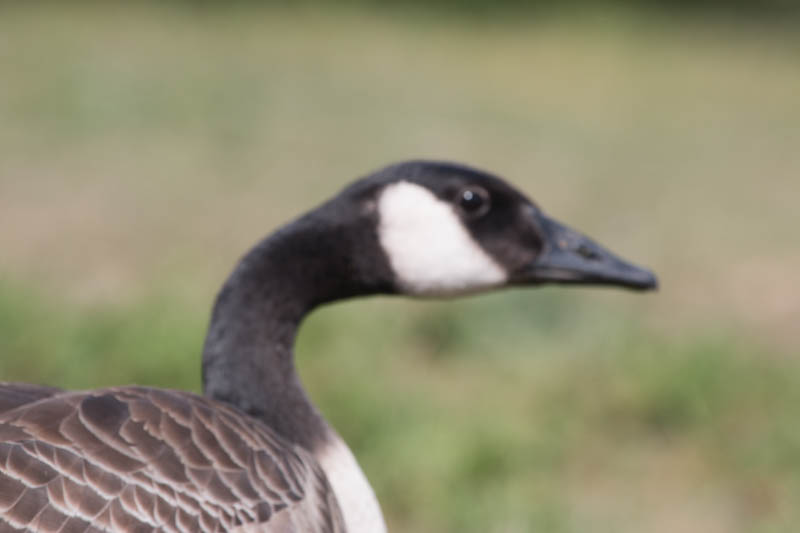goose-head: (329, 158, 660, 301)
